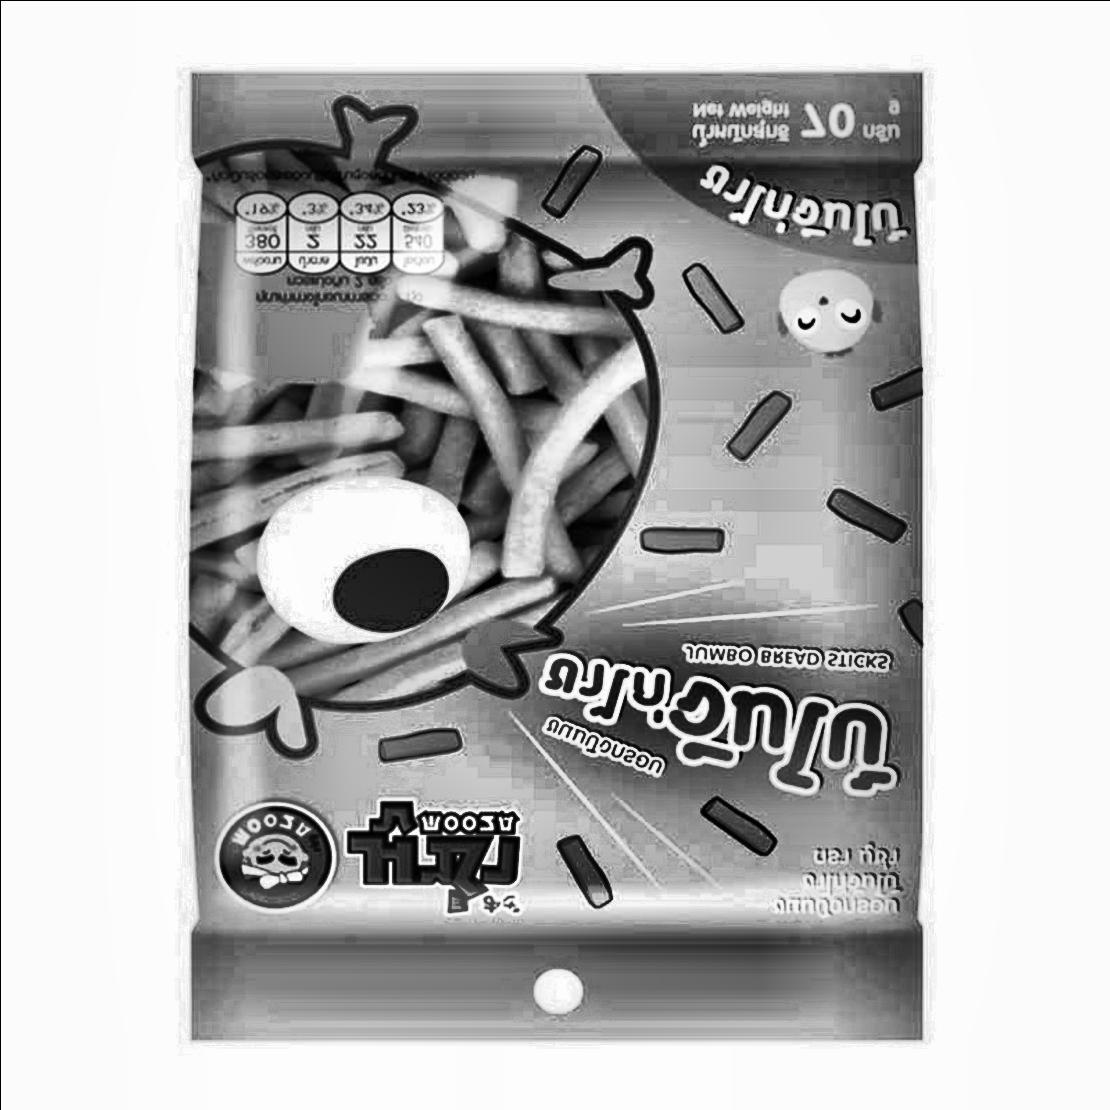snackbag: (113, 41, 1010, 1082)
